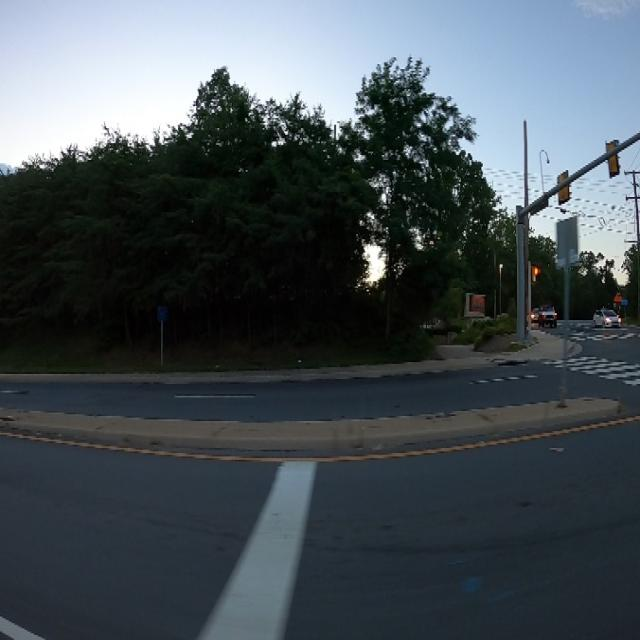cars: (591, 308, 622, 332), (540, 305, 562, 329), (532, 305, 543, 331)
